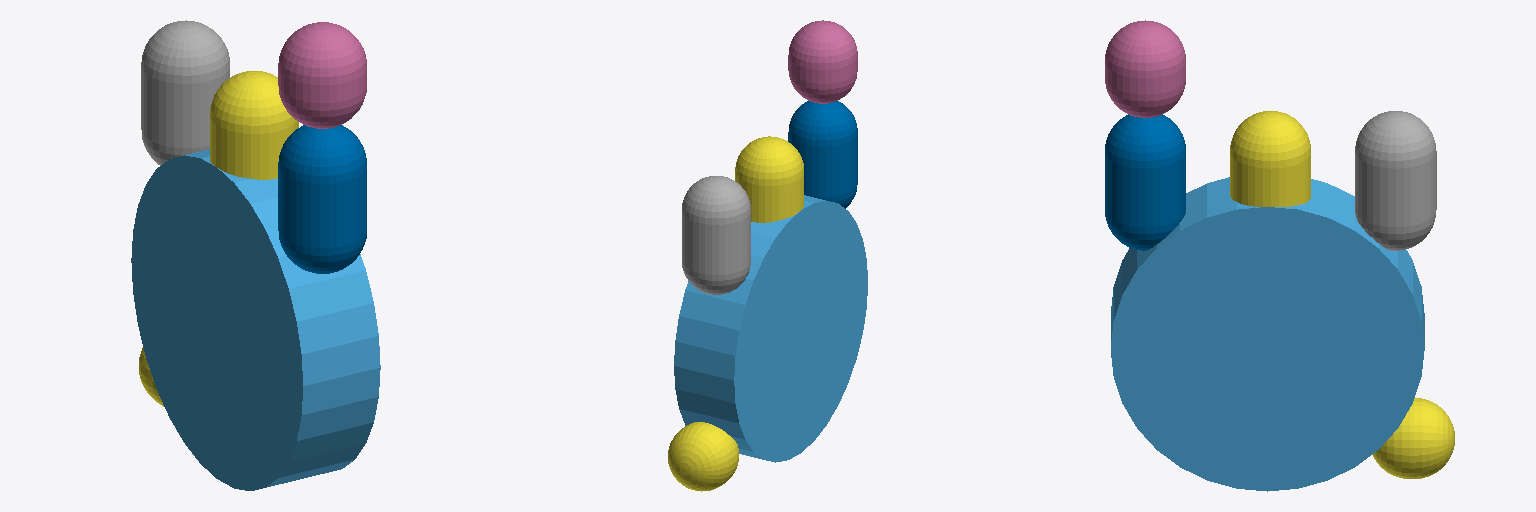
URDF robot description (DexterousHand):
<?xml version="1.0"?>
<robot name="DexterousHand">


    <link name="world"/>
    <joint name="world_to_palm" type="fixed">
        <parent link="world"/>
        <child link="palm"/>
        <origin xyz="0 0 0" rpy="0 0 0"/>
    </joint>
    <link name="palm">
        <inertial>
            <origin xyz="0 0 0.057" rpy="0 0 0"/>
            <mass value="0.30212892864"/>
            <inertia ixx="0.00049080844457568" ixy="0.0" ixz="0.0" iyy="0.00026746366246427523" iyz="0.0" izz="0.00026746366246427523"/>
        </inertial>
        <visual>
            <origin xyz="0 0 0.057" rpy="1.5708 0 1.5708"/>
            <geometry>
                <cylinder radius="0.057" length="0.0296"/>
            </geometry>
            <material name="default"/>
        </visual>
        <collision>
            <origin xyz="0 0 0.057" rpy="1.5708 0 1.5708"/>
            <geometry>
                <cylinder radius="0.057" length="0.0296"/>
            </geometry>
        </collision>
    </link>

    
    <joint name="thumb_joint1" type="revolute">
        <parent link="palm"/>
        <child link="thumb_base"/>
        <origin xyz="0.0029 0.0368 0.0157" rpy="-1.5708 -1.5708 0.0"/>
        <axis xyz="-1 0 0"/>
        <limit lower="-0.349" upper="2.094" effort="1.0" velocity="1.0"/>
    </joint>

    <link name="thumb_base"></link>

    <joint name="thumb_joint2" type="revolute">
        <parent link="thumb_base"/>
        <child link="thumb_proximal"/>
        <origin xyz="0.0 0.0 0.0" rpy="0.0 0.0 0.0"/>
        <axis xyz="0 0 1"/>
        <limit lower="-0.47" upper="2.443" effort="1.0" velocity="1.0"/>
    </joint>

    <link name="thumb_proximal">
        <inertial>
            <origin xyz="0 0 0.01565" rpy="0 0 0"/>
            <mass value="0.021538658803200002"/>
            <inertia ixx="2.9378910096388167e-06" ixy="0.0" ixz="0.0" 
            iyy="2.9378910096388167e-06" iyz="0.0" izz="2.358913912126464e-06"/>
        </inertial>
        <visual>
            <origin xyz="0 0 0.01565" rpy="0 0 0"/>
            <geometry>
                <cylinder radius="0.0148" length="0.0017000000000000001"/>
            </geometry>
            <material name="default"/>
        </visual>
        <visual>
            <origin xyz="0 0 0.0148" rpy="0 0 0"/>
            <geometry>
                <sphere radius="0.0148"/>
            </geometry>
            <material name="default"/>
        </visual>
        <visual>
            <origin xyz="0 0 0.0165" rpy="0 0 0"/>
            <geometry>
                <sphere radius="0.0148"/>
            </geometry>
            <material name="default"/>
        </visual>
        <collision>
            <origin xyz="0 0 0.01565" rpy="0 0 0"/>
            <geometry>
                <cylinder radius="0.0148" length="0.0017000000000000001"/>
            </geometry>
        </collision>
        <collision>
            <origin xyz="0 0 0.0148" rpy="0 0 0"/>
            <geometry>
                <sphere radius="0.0148"/>
            </geometry>
        </collision>
        <collision>
            <origin xyz="0 0 0.0165" rpy="0 0 0"/>
            <geometry>
                <sphere radius="0.0148"/>
            </geometry>
        </collision>
    </link>

    <joint name="thumb_joint3" type="revolute">
        <parent link="thumb_proximal"/>
        <child link="thumb_knuckle"/>
        <origin xyz="0.0 0.0 0.0" rpy="0.0 0.0 0.0"/>
        <axis xyz="1 0 0"/>
        <limit lower="0.0" upper="0.0" effort="1.0" velocity="1.0"/>
    </joint>

    <link name="thumb_knuckle"></link>

    <joint name="thumb_joint4" type="revolute">
        <parent link="thumb_knuckle"/>
        <child link="thumb_middle"/>
        <origin xyz="0 0 0" rpy="0 0 0"/> 
        <axis xyz="0 1 0"/>
        <limit lower="0.0" upper="0.0" effort="1.0" velocity="1.0"/>
    </joint>

    <link name="thumb_middle">
    </link>

    <joint name="thumb_joint5" type="revolute">
        <parent link="thumb_middle"/>
        <child link="thumb_distal"/>
        <origin xyz="0 0 0" rpy="0 0 0"/> 
        <axis xyz="0 1 0"/>
        <limit lower="0.0" upper="0.0" effort="1.0" velocity="1.0"/>
    </joint>

    <link name="thumb_distal">
    </link>

    
    <joint name="index_joint1" type="revolute">
        <parent link="palm"/>
        <child link="index_proximal"/>
        <origin xyz="0.0 0.0465 0.091" rpy="0.0 0.0 0.0"/>
        <axis xyz="0 1 0"/>
        <limit lower="-0.314" upper="2.23" effort="1.0" velocity="1.0"/>
    </joint>

    <link name="index_proximal">
        <inertial>
            <origin xyz="0 0 0.02655" rpy="0 0 0"/>
            <mass value="0.036540024998400006"/>
            <inertia ixx="1.058665009272394e-05" ixy="0.0" ixz="0.0" 
            iyy="1.058665009272394e-05" iyz="0.0" izz="4.001863537824769e-06"/>
        </inertial>
        <visual>
            <origin xyz="0 0 0.02655" rpy="0 0 0"/>
            <geometry>
                <cylinder radius="0.0148" length="0.0235"/>
            </geometry>
            <material name="default"/>
        </visual>
        <visual>
            <origin xyz="0 0 0.0148" rpy="0 0 0"/>
            <geometry>
                <sphere radius="0.0148"/>
            </geometry>
            <material name="default"/>
        </visual>
        <visual>
            <origin xyz="0 0 0.0383" rpy="0 0 0"/>
            <geometry>
                <sphere radius="0.0148"/>
            </geometry>
            <material name="default"/>
        </visual>
        <collision>
            <origin xyz="0 0 0.02655" rpy="0 0 0"/>
            <geometry>
                <cylinder radius="0.0148" length="0.0235"/>
            </geometry>
        </collision>
        <collision>
            <origin xyz="0 0 0.0148" rpy="0 0 0"/>
            <geometry>
                <sphere radius="0.0148"/>
            </geometry>
        </collision>
        <collision>
            <origin xyz="0 0 0.0383" rpy="0 0 0"/>
            <geometry>
                <sphere radius="0.0148"/>
            </geometry>
        </collision>
    </link>

    <joint name="index_joint2" type="revolute">
        <parent link="index_proximal"/>
        <child link="index_dummy"/>
        <origin xyz="0.0 0.0 0.038" rpy="0.0 0.0 0.0"/>
        <axis xyz="0 1 0"/>
        <limit lower="0.0" upper="0.0" effort="1.0" velocity="1.0"/>
    </joint>

    <link name="index_dummy"></link>

    <joint name="index_joint3" type="revolute">
        <parent link="index_dummy"/>
        <child link="index_middle"/>
        <origin xyz="0 0 0.015100000000000002" rpy="0 0 0"/>
        <axis xyz="0 1 0"/>
        <limit lower="0.0" upper="0.0" effort="1.0" velocity="1.0"/>
    </joint>

    <link name="index_middle">
    </link>

    <joint name="index_joint4" type="revolute">
        <parent link="index_middle"/>
        <child link="index_distal"/>
        <origin xyz="0 0 0" rpy="0 0 0"/> 
        <axis xyz="0 1 0"/>
        <limit lower="0.0" upper="0.0" effort="1.0" velocity="1.0"/>
    </joint>

    <link name="index_distal">
    </link>

    
    <joint name="middle_joint1" type="revolute">
        <parent link="palm"/>
        <child link="middle_proximal"/>
        <origin xyz="0.0 0.0011 0.091" rpy="0.0 0.0 0.0"/>
        <axis xyz="0 1 0"/>
        <limit lower="-0.314" upper="2.23" effort="1.0" velocity="1.0"/>
    </joint>

    <link name="middle_proximal">
        <inertial>
            <origin xyz="0 0 0.02655" rpy="0 0 0"/>
            <mass value="0.036540024998400006"/>
            <inertia ixx="1.058665009272394e-05" ixy="0.0" ixz="0.0" 
            iyy="1.058665009272394e-05" iyz="0.0" izz="4.001863537824769e-06"/>
        </inertial>
        <visual>
            <origin xyz="0 0 0.02655" rpy="0 0 0"/>
            <geometry>
                <cylinder radius="0.0148" length="0.0235"/>
            </geometry>
            <material name="default"/>
        </visual>
        <visual>
            <origin xyz="0 0 0.0148" rpy="0 0 0"/>
            <geometry>
                <sphere radius="0.0148"/>
            </geometry>
            <material name="default"/>
        </visual>
        <visual>
            <origin xyz="0 0 0.0383" rpy="0 0 0"/>
            <geometry>
                <sphere radius="0.0148"/>
            </geometry>
            <material name="default"/>
        </visual>
        <collision>
            <origin xyz="0 0 0.02655" rpy="0 0 0"/>
            <geometry>
                <cylinder radius="0.0148" length="0.0235"/>
            </geometry>
        </collision>
        <collision>
            <origin xyz="0 0 0.0148" rpy="0 0 0"/>
            <geometry>
                <sphere radius="0.0148"/>
            </geometry>
        </collision>
        <collision>
            <origin xyz="0 0 0.0383" rpy="0 0 0"/>
            <geometry>
                <sphere radius="0.0148"/>
            </geometry>
        </collision>
    </link>

    <joint name="middle_joint2" type="revolute">
        <parent link="middle_proximal"/>
        <child link="middle_dummy"/>
        <origin xyz="0.0 0.0 0.038" rpy="0.0 0.0 0.0"/>
        <axis xyz="0 1 0"/>
        <limit lower="0.0" upper="0.0" effort="1.0" velocity="1.0"/>
    </joint>

    <link name="middle_dummy"></link>

    <joint name="middle_joint3" type="revolute">
        <parent link="middle_dummy"/>
        <child link="middle_middle"/>
        <origin xyz="0 0 0.015100000000000002" rpy="0 0 0"/>
        <axis xyz="0 1 0"/>
        <limit lower="0.0" upper="0.0" effort="1.0" velocity="1.0"/>
    </joint>

    <link name="middle_middle">
    </link>

    <joint name="middle_joint4" type="revolute">
        <parent link="middle_middle"/>
        <child link="middle_distal"/>
        <origin xyz="0 0 0" rpy="0 0 0"/> 
        <axis xyz="0 1 0"/>
        <limit lower="0.0" upper="0.0" effort="1.0" velocity="1.0"/>
    </joint>

    <link name="middle_distal">
    </link>

    
    <joint name="ring_joint1" type="revolute">
        <parent link="palm"/>
        <child link="ring_proximal"/>
        <origin xyz="0.0 0.0 0.0" rpy="0.0 0.0 0.0"/>
        <axis xyz="1 0 0"/>
        <limit lower="0.0" upper="0.0" effort="1.0" velocity="1.0"/>
    </joint>

    <link name="ring_proximal">
    </link>

    <joint name="ring_joint2" type="revolute">
        <parent link="ring_proximal"/>
        <child link="ring_dummy"/>
        <origin xyz="0.0 0.0 0.0" rpy="0.0 0.0 0.0"/>
        <axis xyz="0 1 0"/>
        <limit lower="0.0" upper="0.0" effort="1.0" velocity="1.0"/>
    </joint>

    <link name="ring_dummy"></link>

    <joint name="ring_joint3" type="revolute">
        <parent link="ring_dummy"/>
        <child link="ring_middle"/>
        <origin xyz="0 0 0" rpy="0 0 0"/>
        <axis xyz="0 1 0"/>
        <limit lower="0.0" upper="0.0" effort="1.0" velocity="1.0"/>
    </joint>

    <link name="ring_middle">
    </link>

    <joint name="ring_joint4" type="revolute">
        <parent link="ring_middle"/>
        <child link="ring_distal"/>
        <origin xyz="0 0 0" rpy="0 0 0"/> 
        <axis xyz="0 1 0"/>
        <limit lower="0.0" upper="0.0" effort="1.0" velocity="1.0"/>
    </joint>

    <link name="ring_distal">
    </link>

    
    <joint name="little_joint0" type="revolute">
        <parent link="palm"/>
        <child link="little_base"/>
        <origin xyz="0.0 0.0 0.0" rpy="0.0 0.0 0.0"/>
        <axis xyz="0 1 0"/>
        <limit lower="0.0" upper="0.0" effort="1.0" velocity="1.0"/>
    </joint>

    <link name="little_base"></link>

    <joint name="little_joint1" type="revolute">
        <parent link="little_base"/>
        <child link="little_proximal"/>
        <origin xyz="0.0 -0.0443 0.091" rpy="-0.0 -0.0 -0.0"/>
        <axis xyz="0 1 0"/>
        <limit lower="-0.314" upper="2.23" effort="1.0" velocity="1.0"/>
    </joint>

    <link name="little_proximal">
        <inertial>
            <origin xyz="0 0 0.02655" rpy="0 0 0"/>
            <mass value="0.036540024998400006"/>
            <inertia ixx="1.058665009272394e-05" ixy="0.0" ixz="0.0" 
            iyy="1.058665009272394e-05" iyz="0.0" izz="4.001863537824769e-06"/>
        </inertial>
        <visual>
            <origin xyz="0 0 0.02655" rpy="0 0 0"/>
            <geometry>
                <cylinder radius="0.0148" length="0.0235"/>
            </geometry>
            <material name="default"/>
        </visual>
        <visual>
            <origin xyz="0 0 0.0148" rpy="0 0 0"/>
            <geometry>
                <sphere radius="0.0148"/>
            </geometry>
            <material name="default"/>
        </visual>
        <visual>
            <origin xyz="0 0 0.0383" rpy="0 0 0"/>
            <geometry>
                <sphere radius="0.0148"/>
            </geometry>
            <material name="default"/>
        </visual>
        <collision>
            <origin xyz="0 0 0.02655" rpy="0 0 0"/>
            <geometry>
                <cylinder radius="0.0148" length="0.0235"/>
            </geometry>
        </collision>
        <collision>
            <origin xyz="0 0 0.0148" rpy="0 0 0"/>
            <geometry>
                <sphere radius="0.0148"/>
            </geometry>
        </collision>
        <collision>
            <origin xyz="0 0 0.0383" rpy="0 0 0"/>
            <geometry>
                <sphere radius="0.0148"/>
            </geometry>
        </collision>
    </link>

    <joint name="little_joint2" type="revolute">
        <parent link="little_proximal"/>
        <child link="little_dummy"/>
        <origin xyz="0.0 0.0 0.038" rpy="0.0 0.0 0.0"/>
        <axis xyz="1 0 0"/>
        <limit lower="-1.047" upper="1.047" effort="1.0" velocity="1.0"/>
    </joint>

    <link name="little_dummy"></link>

    <joint name="little_joint3" type="revolute">
        <parent link="little_dummy"/>
        <child link="little_middle"/>
        <origin xyz="0 0 0.015100000000000002" rpy="0 0 0"/>
        <axis xyz="0 1 0"/>
        <limit lower="-0.506" upper="1.885" effort="1.0" velocity="1.0"/>
    </joint>

    <link name="little_middle">
        <inertial>
            <origin xyz="0 0 0.01805" rpy="0 0 0"/>
            <mass value="0.0248417119104"/>
            <inertia ixx="4.058162759109537e-06" ixy="0.0" ixz="0.0" 
            iyy="4.058162759109537e-06" iyz="0.0" izz="2.7206642884270085e-06"/>
        </inertial>
        <visual>
            <origin xyz="0 0 0.01805" rpy="0 0 0"/>
            <geometry>
                <cylinder radius="0.0148" length="0.006499999999999999"/>
            </geometry>
            <material name="default"/>
        </visual>
        <visual>
            <origin xyz="0 0 0.0148" rpy="0 0 0"/>
            <geometry>
                <sphere radius="0.0148"/>
            </geometry>
            <material name="default"/>
        </visual>
        <visual>
            <origin xyz="0 0 0.0213" rpy="0 0 0"/>
            <geometry>
                <sphere radius="0.0148"/>
            </geometry>
            <material name="default"/>
        </visual>
        <collision>
            <origin xyz="0 0 0.01805" rpy="0 0 0"/>
            <geometry>
                <cylinder radius="0.0148" length="0.006499999999999999"/>
            </geometry>
        </collision>
        <collision>
            <origin xyz="0 0 0.0148" rpy="0 0 0"/>
            <geometry>
                <sphere radius="0.0148"/>
            </geometry>
        </collision>
        <collision>
            <origin xyz="0 0 0.0213" rpy="0 0 0"/>
            <geometry>
                <sphere radius="0.0148"/>
            </geometry>
        </collision>
    </link>

    <joint name="little_joint4" type="revolute">
        <parent link="little_middle"/>
        <child link="little_distal"/>
        <origin xyz="0 0 0.0361" rpy="0 0 0"/>
        <axis xyz="0 1 0"/>
        <limit lower="0.0" upper="0.0" effort="1.0" velocity="1.0"/>
    </joint>

    <link name="little_distal">
    </link>

</robot>

--- Render facts (derived) ---
The picture shows the robot from 3 angles, left to right: view 1: azimuth 30°, elevation 25°; view 2: azimuth 150°, elevation 25°; view 3: azimuth 270°, elevation 25°; orthographic projection.
Model DexterousHand with 24 links and 23 joints (22 revolute, 1 fixed), rooted at world, posed all joints at 0.
Visible links, largest first — view 1: palm, little_proximal, index_proximal, little_middle, middle_proximal; view 2: palm, index_proximal, little_proximal, little_middle, middle_proximal, thumb_proximal; view 3: palm, index_proximal, little_proximal, middle_proximal, little_middle, thumb_proximal.
Link boxes in pixels (bbox=[...]): palm: bbox=[131, 149, 380, 490]; little_proximal: bbox=[278, 125, 366, 273]; index_proximal: bbox=[141, 20, 229, 165]; little_middle: bbox=[278, 22, 366, 128]; middle_proximal: bbox=[210, 71, 298, 179]; palm: bbox=[674, 195, 867, 462]; index_proximal: bbox=[682, 176, 750, 294]; little_proximal: bbox=[788, 101, 857, 208]; little_middle: bbox=[788, 20, 857, 103]; middle_proximal: bbox=[735, 136, 803, 222]; thumb_proximal: bbox=[668, 422, 738, 491]; palm: bbox=[1111, 177, 1424, 491]; index_proximal: bbox=[1355, 111, 1436, 250]; little_proximal: bbox=[1105, 114, 1185, 250]; middle_proximal: bbox=[1230, 111, 1310, 206]; little_middle: bbox=[1105, 20, 1185, 117]; thumb_proximal: bbox=[1372, 398, 1454, 478].
Size in the robot's own frame: 0.0325 by 0.1272 by 0.1802 metres.
Geometry: primitives only (box / cylinder / sphere), no mesh files.
